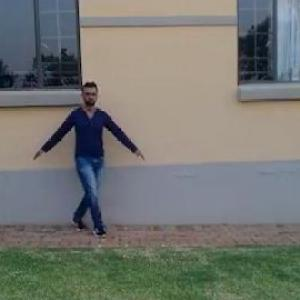land: (34, 82, 140, 244)
